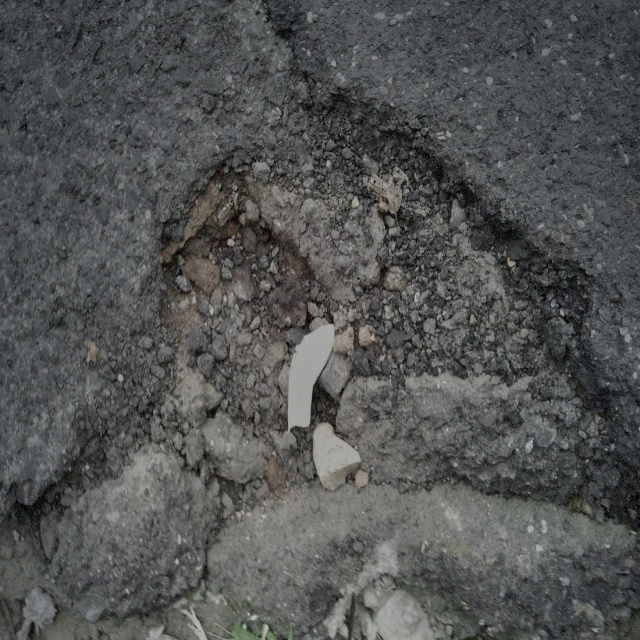pothole: (153, 78, 614, 534), (153, 143, 374, 524)
